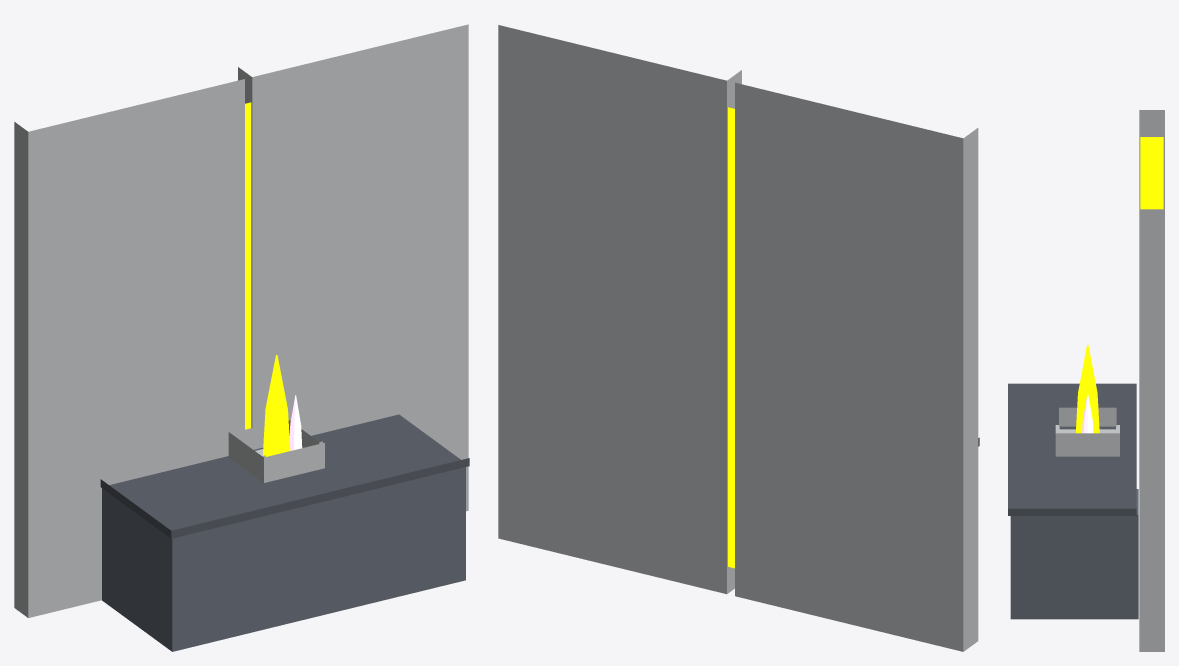
The model's file is ext_memorial_monument_05.glb.
3 views of the same model, side by side, from view 1: azimuth 30°, elevation 25°; view 2: azimuth 150°, elevation 25°; view 3: azimuth 270°, elevation 25° (orthographic). The views are drawn at different scales.
Visible parts, largest first — view 1: Stele, Plinth, Plinth_Top, Emitter_Bowl, Amber_Seam, Flame_Outer; view 2: Stele, Amber_Seam; view 3: Plinth_Top, Plinth, Stele, Emitter_Bowl, Amber_Seam, Flame_Outer, Flame_Core.
Boxes of the visible parts, left/top/right/bottom form: Stele: left=14, top=24, right=468, bottom=617; Plinth: left=102, top=467, right=465, bottom=651; Plinth_Top: left=100, top=414, right=469, bottom=538; Emitter_Bowl: left=228, top=418, right=324, bottom=482; Amber_Seam: left=245, top=102, right=251, bottom=429; Flame_Outer: left=263, top=355, right=290, bottom=456; Stele: left=498, top=25, right=978, bottom=651; Amber_Seam: left=728, top=107, right=734, bottom=568; Plinth_Top: left=1008, top=383, right=1136, bottom=515; Plinth: left=1010, top=489, right=1138, bottom=619; Stele: left=1139, top=110, right=1164, bottom=651; Emitter_Bowl: left=1055, top=407, right=1119, bottom=456; Amber_Seam: left=1140, top=137, right=1163, bottom=209; Flame_Outer: left=1075, top=345, right=1099, bottom=433; Flame_Core: left=1082, top=394, right=1093, bottom=433.
Bounding box in the file's own units: 3.6 × 3.8 × 1.22.
